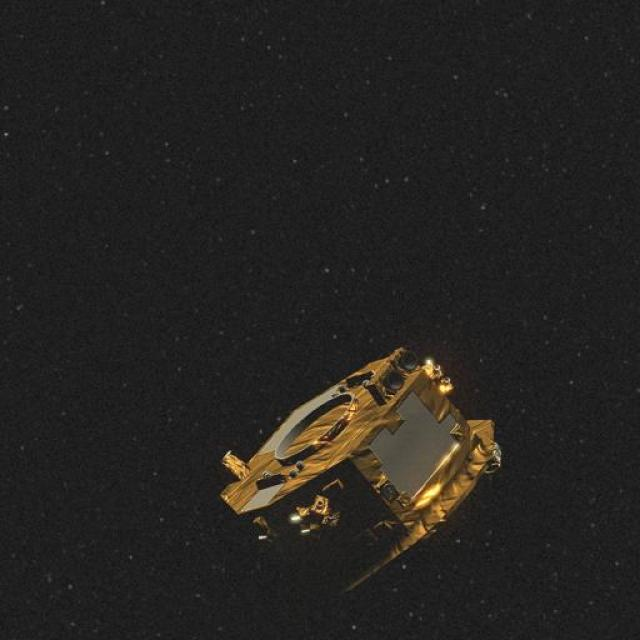lisa_pathfinder: (194, 346, 536, 612)
